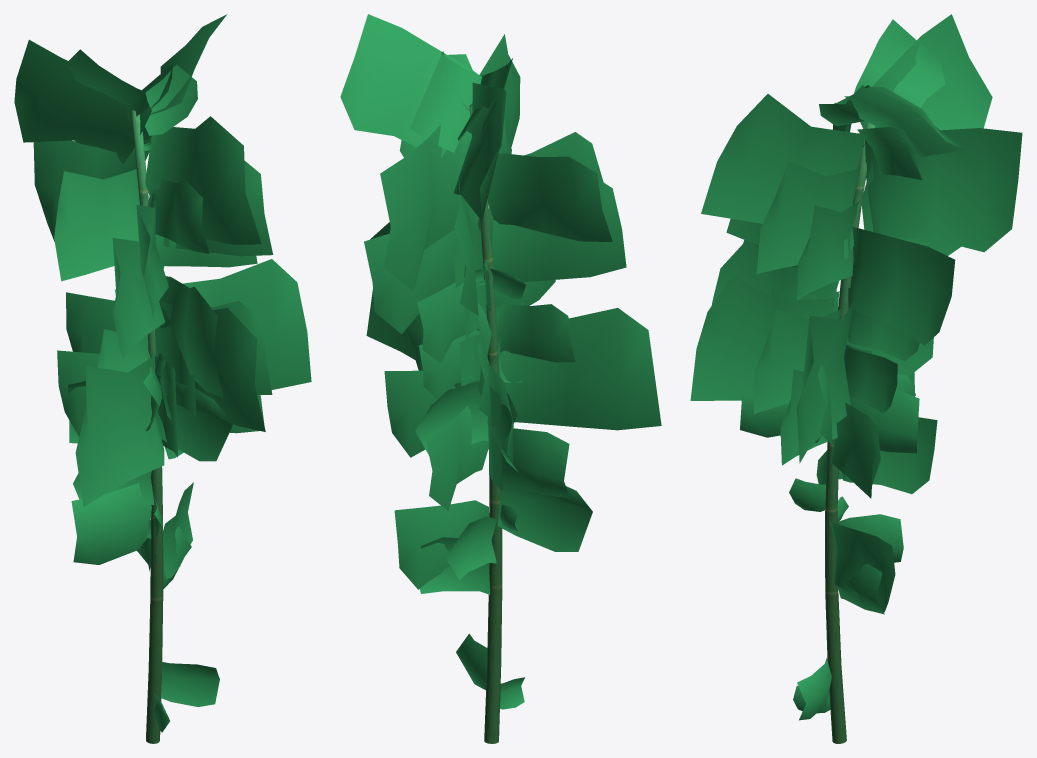
Rendered from BAMBU RETO LOD.fbx.
The picture shows the model from 3 angles, left to right: view 1: azimuth 30°, elevation 25°; view 2: azimuth 150°, elevation 25°; view 3: azimuth 270°, elevation 25°; orthographic projection. The views are drawn at different scales.
Parts seen in each view (by area): view 1: BAMBURETO_LOD0; view 2: BAMBURETO_LOD0; view 3: BAMBURETO_LOD0.
Part boxes in pixels (x1,y1,x2,y2): BAMBURETO_LOD0: [14, 14, 311, 743]; BAMBURETO_LOD0: [340, 14, 661, 743]; BAMBURETO_LOD0: [690, 14, 1022, 743].
Size of what is drawn, in the model's own units: 400 by 1027 by 440.
